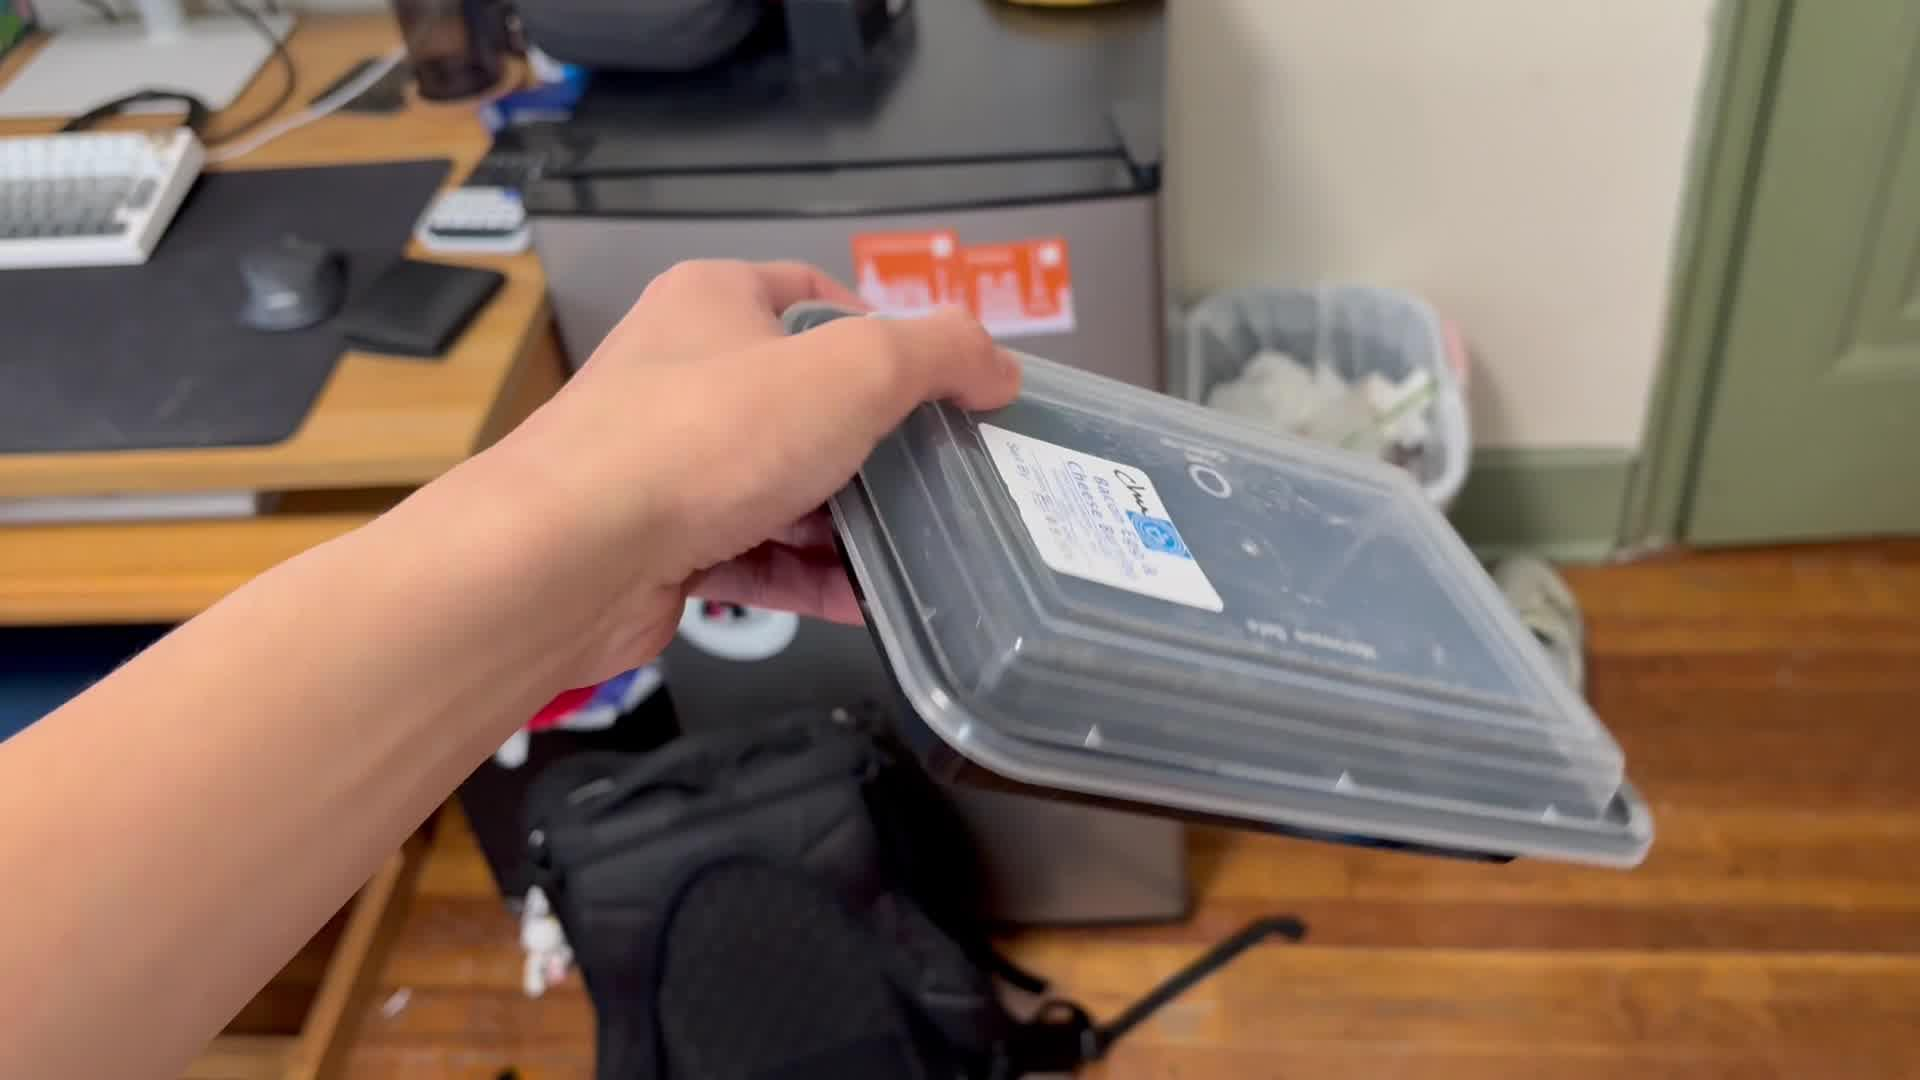lp_cup_lids: (791, 309, 1658, 880)
